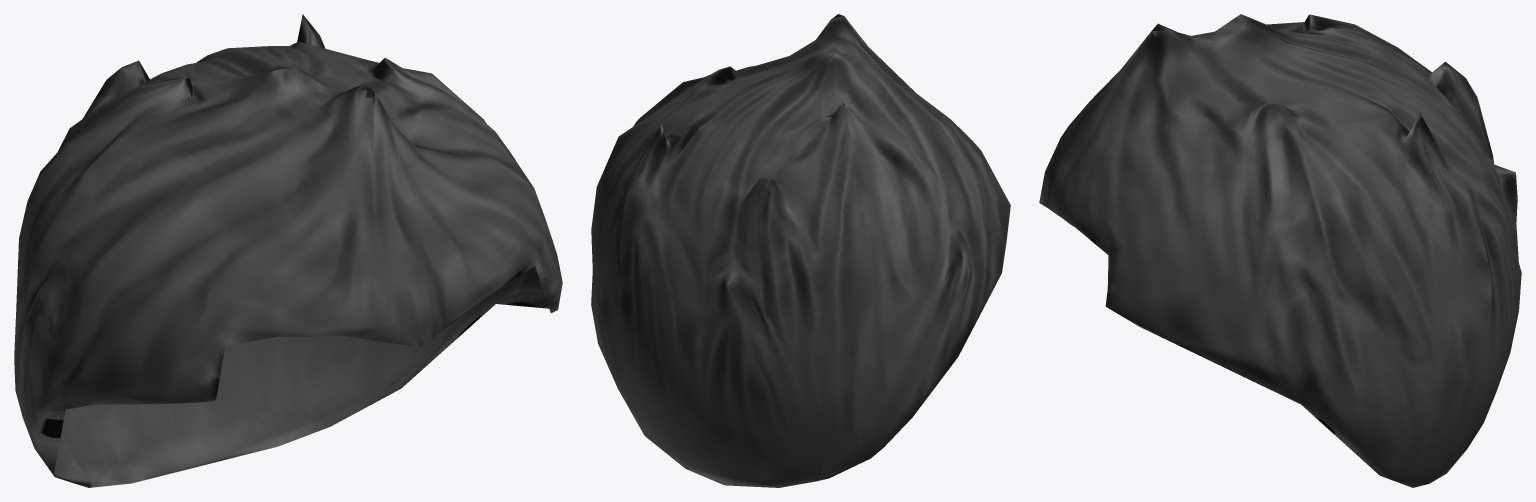
Rendered from AF_M_hair_23.fbx.
3 renders of one model, left to right at view 1: azimuth 30°, elevation 25°; view 2: azimuth 150°, elevation 25°; view 3: azimuth 270°, elevation 25°, orthographic. The views are drawn at different scales.
Parts seen in each view (by area): view 1: AF_M_hair_23; view 2: AF_M_hair_23; view 3: AF_M_hair_23.
Part boxes in pixels (bbox=[...]): AF_M_hair_23: bbox=[14, 14, 562, 487]; AF_M_hair_23: bbox=[591, 14, 1010, 487]; AF_M_hair_23: bbox=[1039, 14, 1521, 487].
Size of the model in its own units: 702 by 698 by 697.
